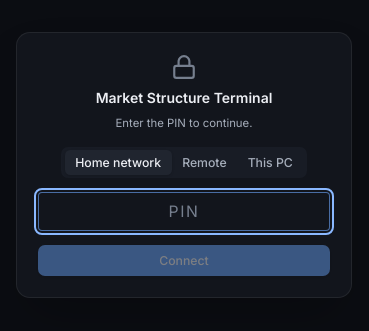
Test: AuthGate › shows the PIN screen when not authenticated and shows errors
The width and height of the screenshot is (369, 331).
In the password field labelled "PIN": (184, 211) x1=38 y1=192 x2=330 y2=230, type "12ab34"
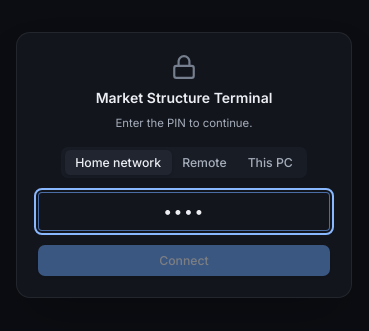
Expected: the button "Connect" is disabled, x1=38 y1=244 x2=330 y2=276
Expected: the password field named "PIN" holds "1234"
In the password field named "PIN": (184, 211) x1=38 y1=192 x2=330 y2=230, type "56"
Then press Enter
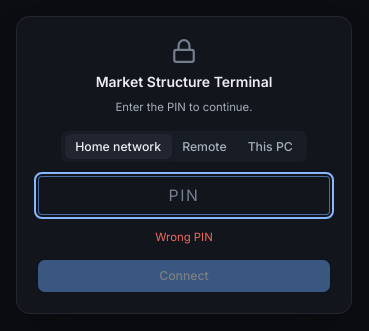
Expected: the message reads "Wrong PIN", x1=155 y1=230 x2=213 y2=244
